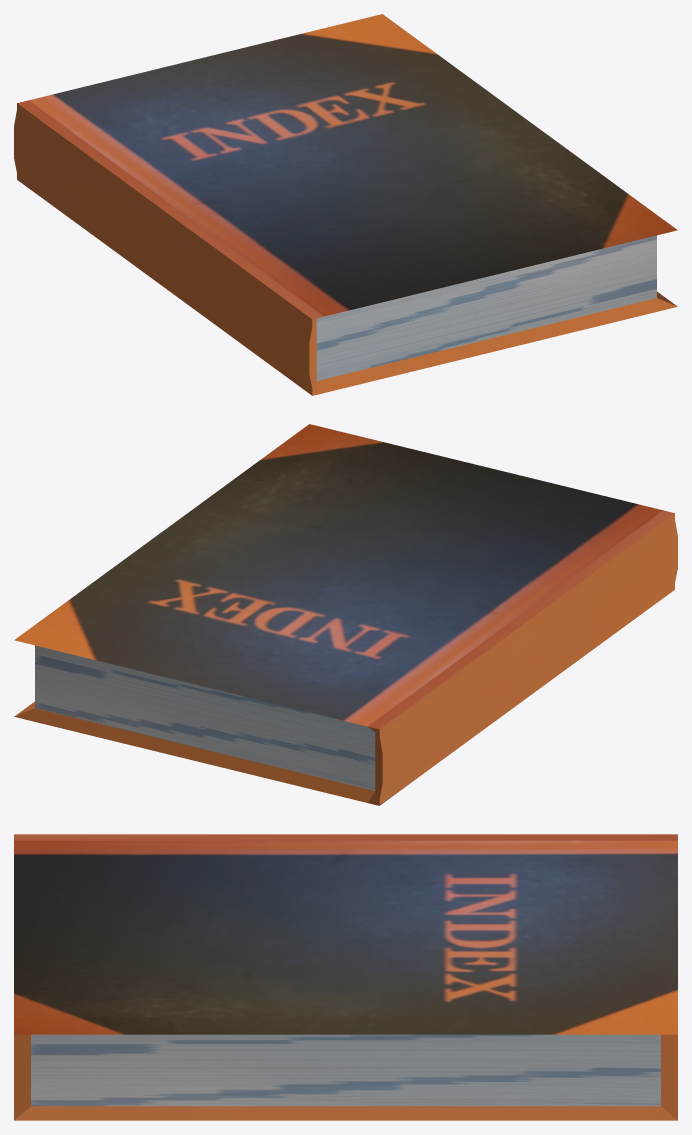
The model's file is book1.obj.
The picture shows the model from 3 angles, top to bottom: view 1: azimuth 30°, elevation 25°; view 2: azimuth 150°, elevation 25°; view 3: azimuth 270°, elevation 25°; orthographic projection. The views are drawn at different scales.
Parts seen in each view (by area): view 1: Cube; view 2: Cube; view 3: Cube.
Part boxes in pixels (x1=…): Cube: x1=14, y1=14, x2=677, y2=395; Cube: x1=14, y1=424, x2=677, y2=805; Cube: x1=14, y1=834, x2=677, y2=1120.
Size of the model in its own units: 0.1512 by 0.03 by 0.21.
